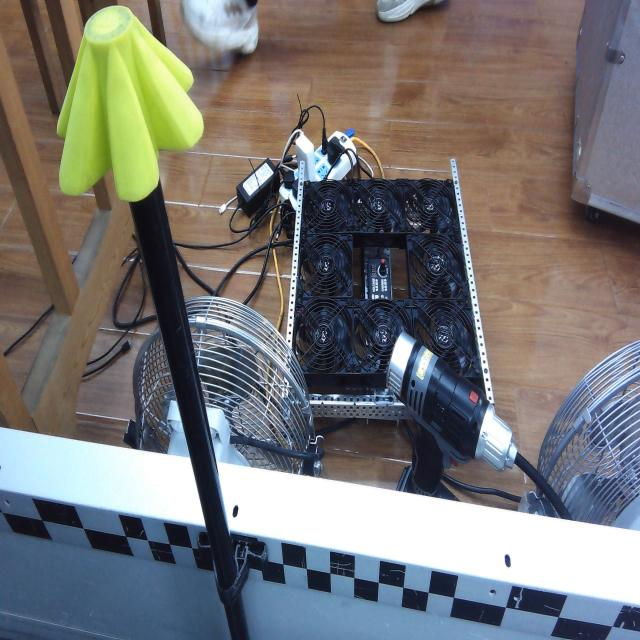Yellow-Stake-Head: (56, 5, 207, 209)
